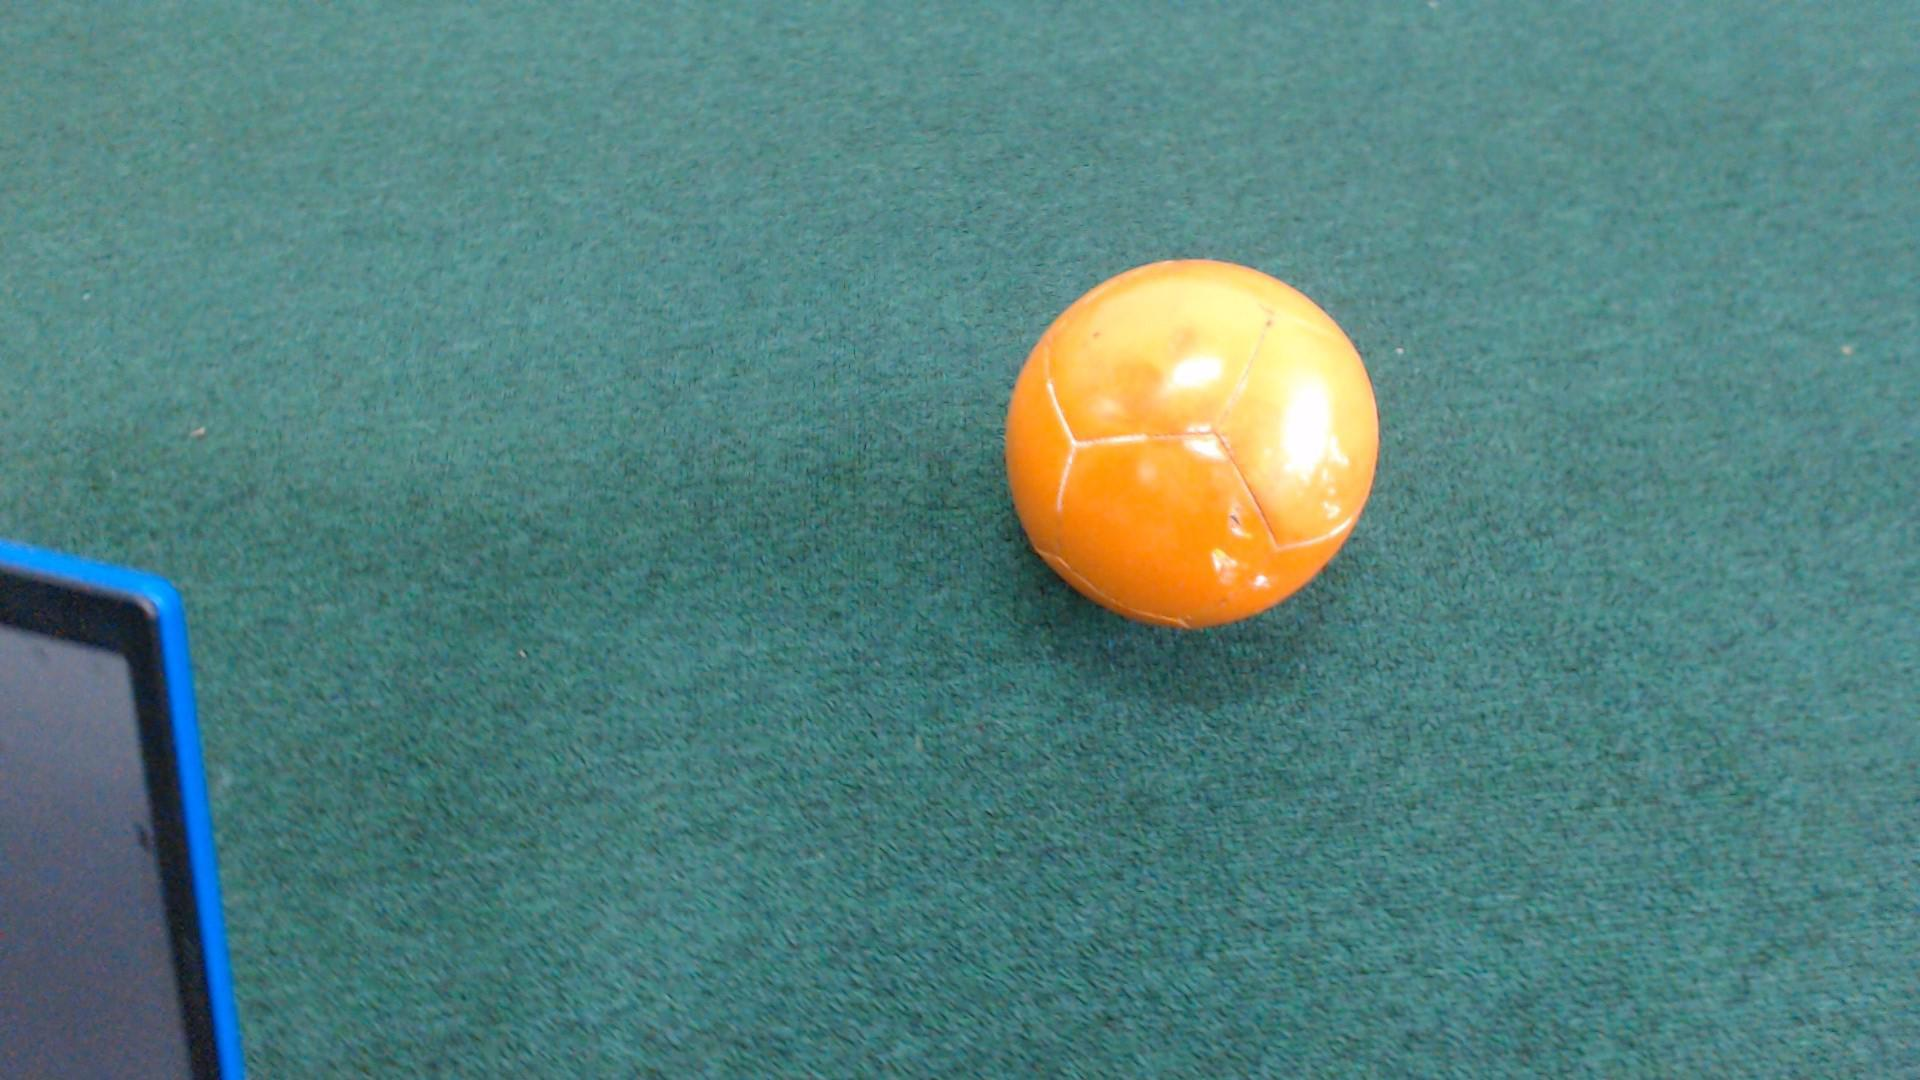bola: (919, 245, 1408, 629)
